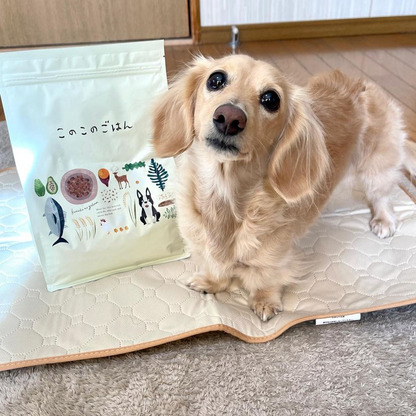dachshund: (148, 31, 413, 329)
